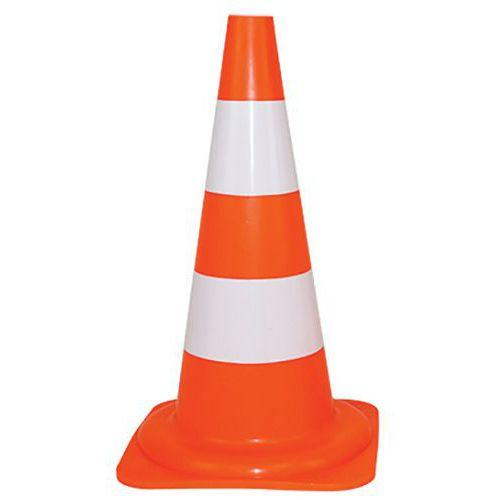traffic_cone: (115, 13, 380, 491)
